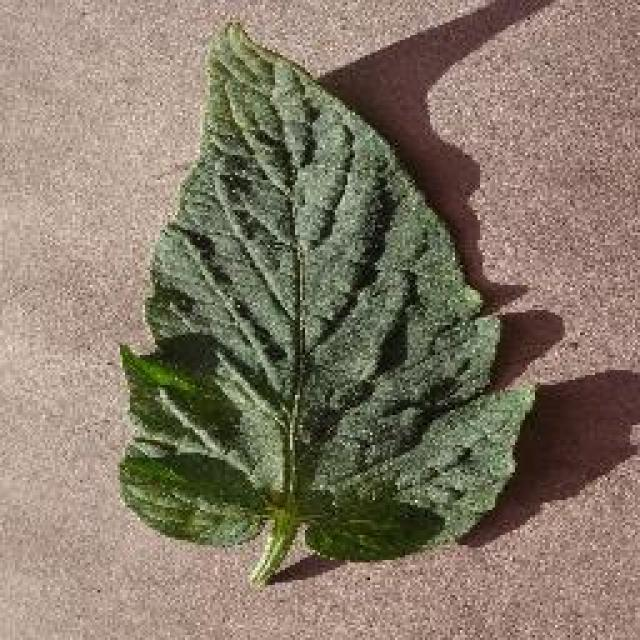Tomato spider mites leaf: (118, 21, 537, 564)
